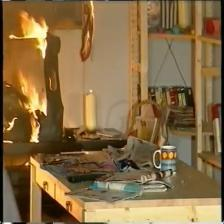fire: (14, 9, 50, 143)
